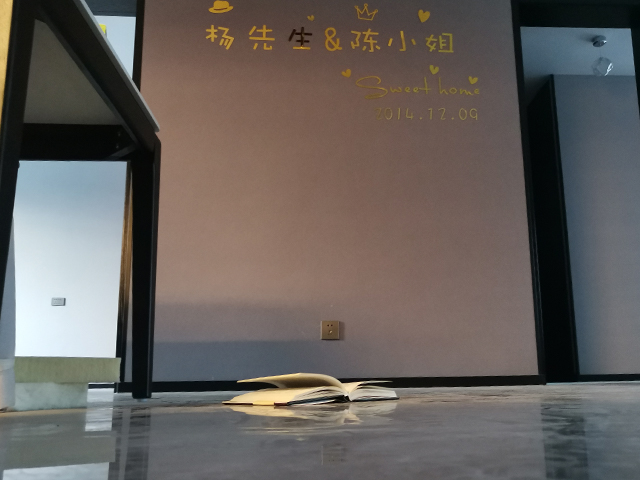book: (220, 371, 402, 409)
table: (1, 1, 163, 402)
